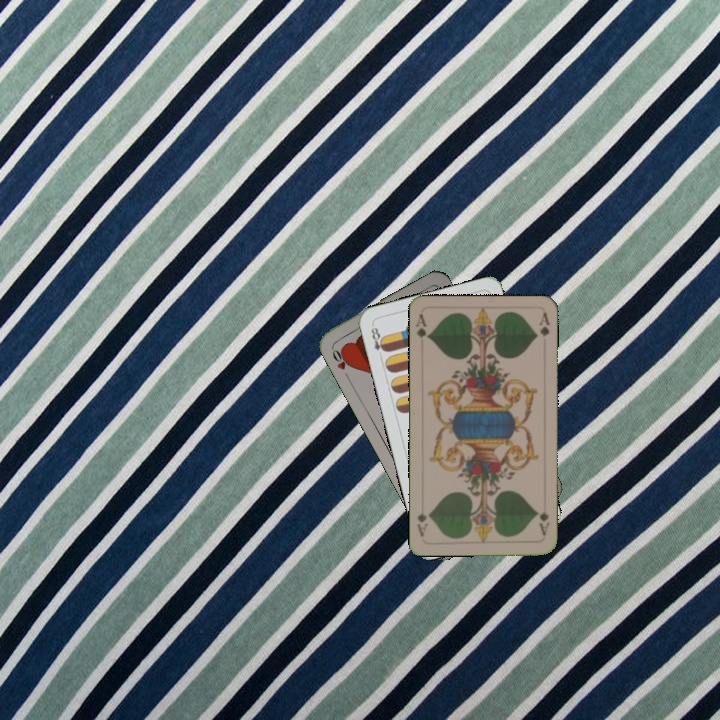E8: (367, 321, 389, 354)
GA: (412, 310, 432, 341), (533, 507, 552, 538)
HO: (327, 343, 355, 381)
